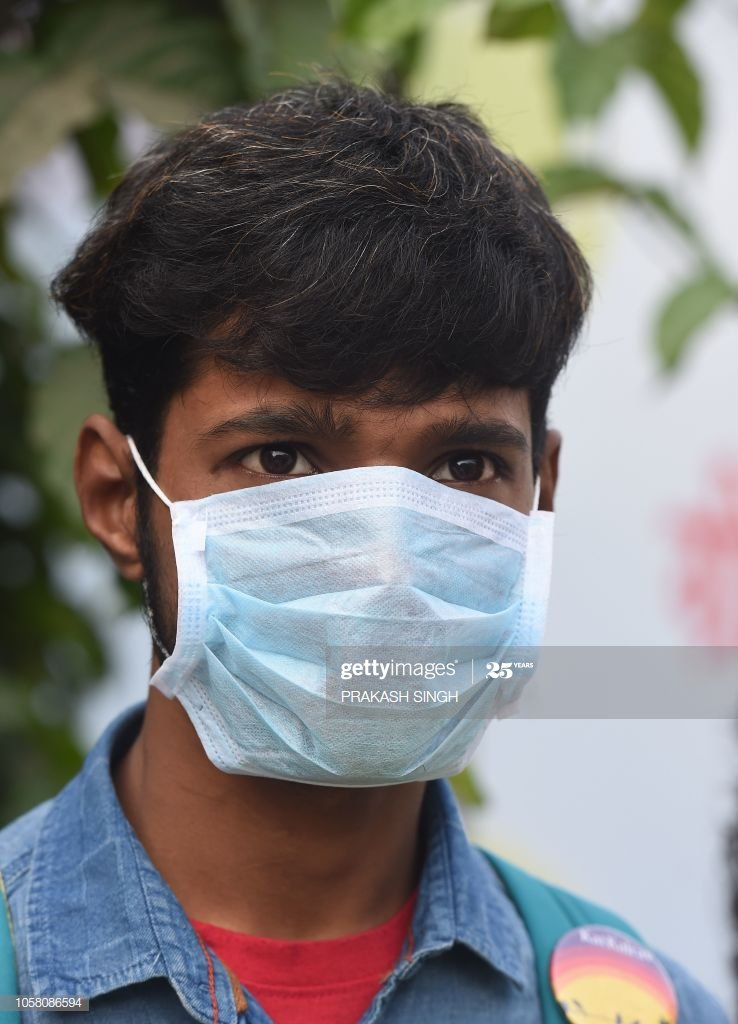mask: (49, 125, 567, 806)
